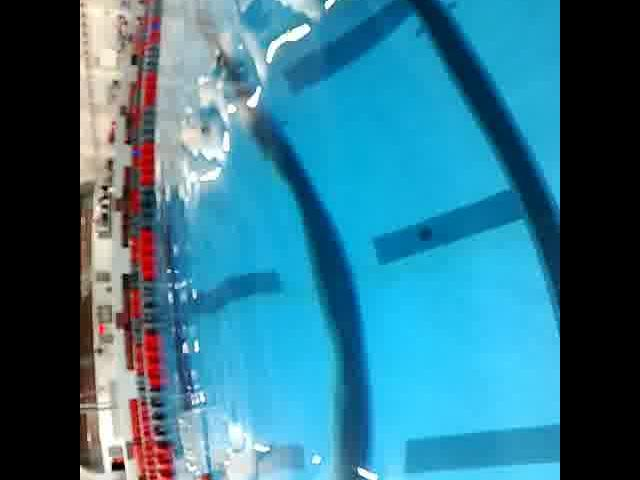Bottle: (175, 400, 217, 480)
